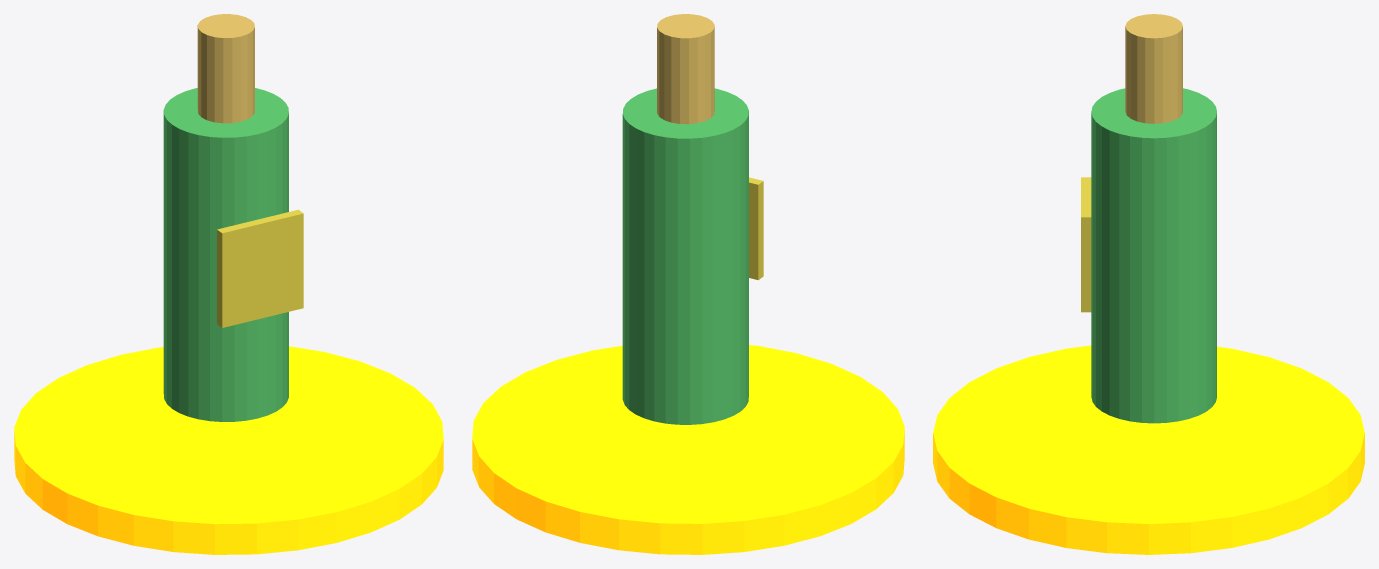
File: spanish_olive_oil.glb
The picture shows the model from 3 angles, left to right: view 1: azimuth 30°, elevation 25°; view 2: azimuth 150°, elevation 25°; view 3: azimuth 270°, elevation 25°; orthographic projection.
Parts seen in each view (by area): view 1: 11_15_Popular_Spanish_Olive_Oil_ROOT_base, 11_15_Popular_Spanish_Olive_Oil_part_01, 11_15_Popular_Spanish_Olive_Oil_part_03, 11_15_Popular_Spanish_Olive_Oil_part_02; view 2: 11_15_Popular_Spanish_Olive_Oil_ROOT_base, 11_15_Popular_Spanish_Olive_Oil_part_01, 11_15_Popular_Spanish_Olive_Oil_part_02, 11_15_Popular_Spanish_Olive_Oil_part_03; view 3: 11_15_Popular_Spanish_Olive_Oil_ROOT_base, 11_15_Popular_Spanish_Olive_Oil_part_01, 11_15_Popular_Spanish_Olive_Oil_part_02, 11_15_Popular_Spanish_Olive_Oil_part_03.
Boxes of the visible parts, x1,y1,x2,y2 form: 11_15_Popular_Spanish_Olive_Oil_ROOT_base: (14, 346, 443, 554); 11_15_Popular_Spanish_Olive_Oil_part_01: (163, 88, 288, 421); 11_15_Popular_Spanish_Olive_Oil_part_03: (217, 209, 303, 327); 11_15_Popular_Spanish_Olive_Oil_part_02: (197, 14, 254, 123); 11_15_Popular_Spanish_Olive_Oil_ROOT_base: (472, 345, 904, 554); 11_15_Popular_Spanish_Olive_Oil_part_01: (622, 88, 748, 424); 11_15_Popular_Spanish_Olive_Oil_part_02: (657, 14, 714, 124); 11_15_Popular_Spanish_Olive_Oil_part_03: (749, 177, 763, 280); 11_15_Popular_Spanish_Olive_Oil_ROOT_base: (933, 345, 1364, 554); 11_15_Popular_Spanish_Olive_Oil_part_01: (1091, 88, 1216, 423); 11_15_Popular_Spanish_Olive_Oil_part_02: (1125, 14, 1182, 123); 11_15_Popular_Spanish_Olive_Oil_part_03: (1081, 177, 1091, 312).
Size of the model in its own units: 0.76 by 0.85 by 0.76.
